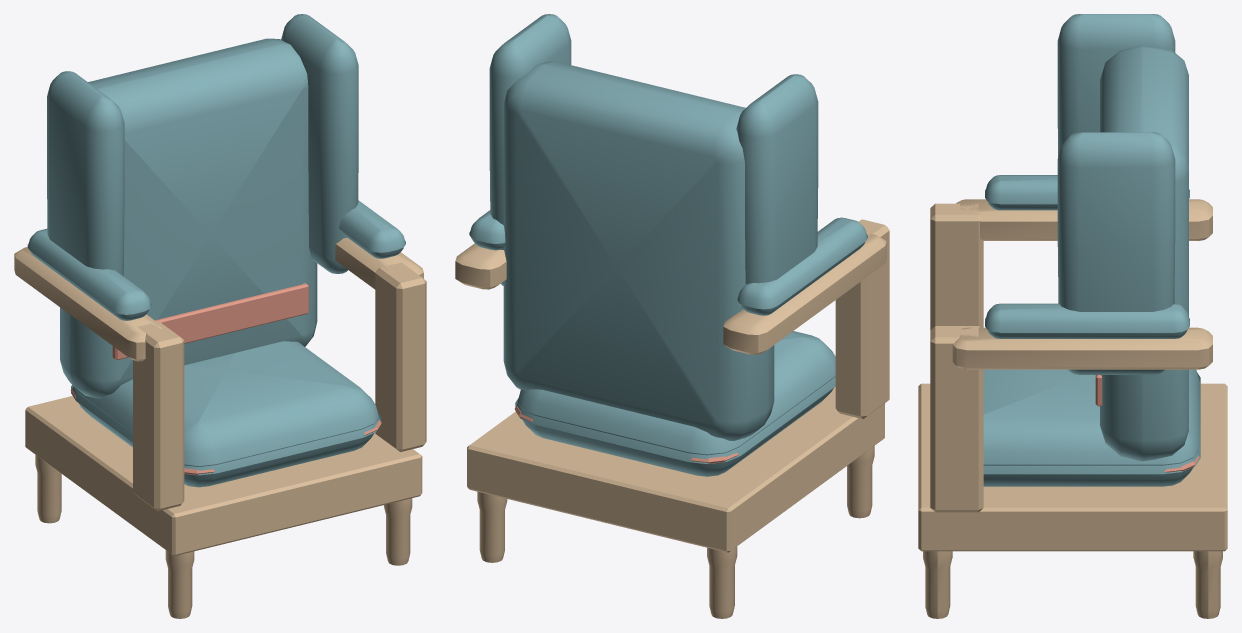
File: care-home-and-day-room-high-back-lounge-chair-f92d5495__35730.glb
3 renders of one model, left to right at view 1: azimuth 30°, elevation 25°; view 2: azimuth 150°, elevation 25°; view 3: azimuth 270°, elevation 25°, orthographic. The views are drawn at different scales.
Visible parts, largest first — view 1: high-back-lounge-chair; view 2: high-back-lounge-chair; view 3: high-back-lounge-chair.
Part boxes in pixels (x1,y1,x2,y2): high-back-lounge-chair: [14, 14, 426, 618]; high-back-lounge-chair: [455, 14, 889, 618]; high-back-lounge-chair: [918, 14, 1227, 618].
Size of the model in its own units: 0.73 by 1.11 by 0.64.
